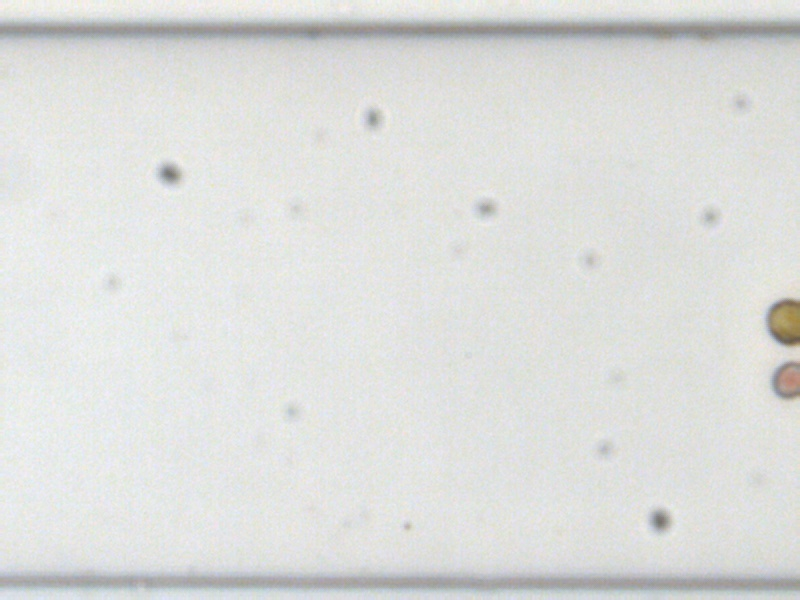Effrenium: (762, 296, 799, 346)
Porphyridium: (769, 357, 799, 400)
